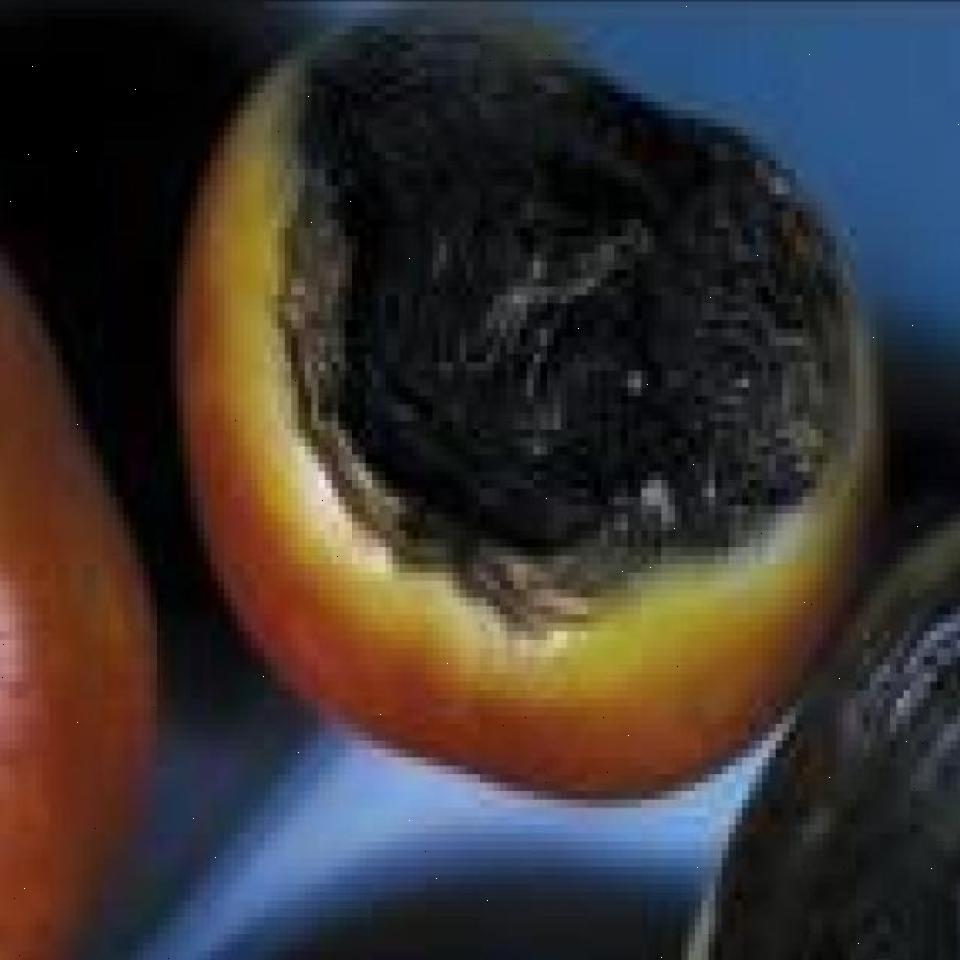Blossom_end_rot: (260, 55, 826, 644), (707, 590, 960, 960)
